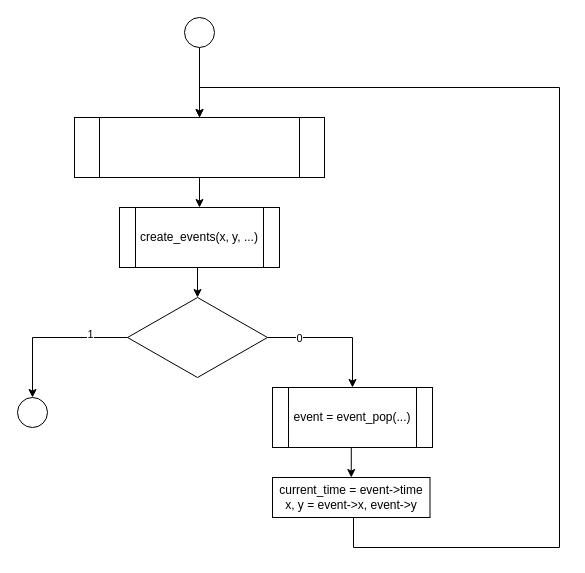
This 585x573 diagram has some shape labels left out. The shapes that lost their labels are listed below. From the top down, each one's centre as x and y in pixels, then its label:
At (x=199, y=147): "explode_bomb(current_time, x, y,...)".
At (x=197, y=337): "event list is empty ?".
